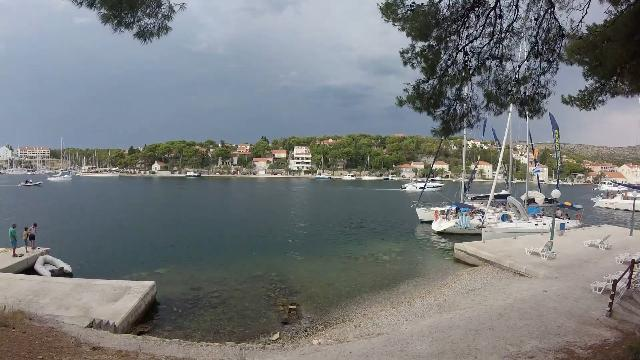Sailboat: (44, 170, 78, 182)
speedboat: (396, 174, 448, 194), (12, 176, 48, 190)
